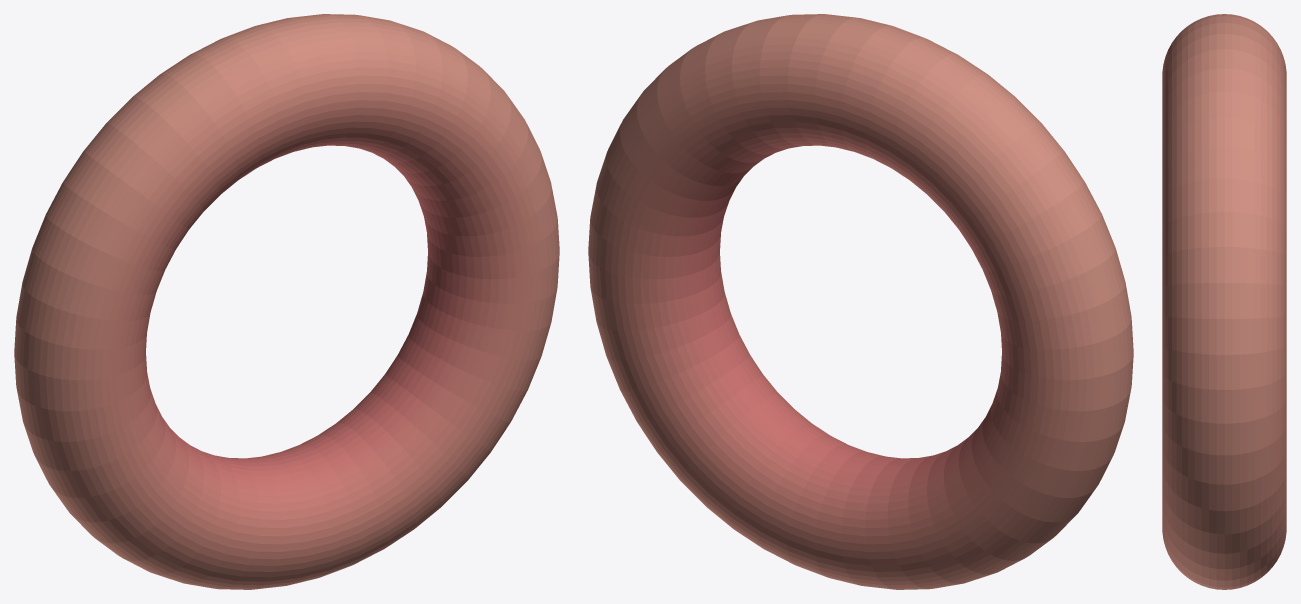
3 renders of one model, left to right at view 1: azimuth 30°, elevation 25°; view 2: azimuth 150°, elevation 25°; view 3: azimuth 270°, elevation 25°, orthographic. The views are drawn at different scales.
Visible parts, largest first — view 1: world; view 2: world; view 3: world.
Part boxes in pixels (box(x1,y1,x2,y2)): world: box(14, 14, 559, 589); world: box(588, 14, 1133, 589); world: box(1162, 14, 1286, 589).
Size of the model in its own units: 31.47 by 31.4 by 6.79.
